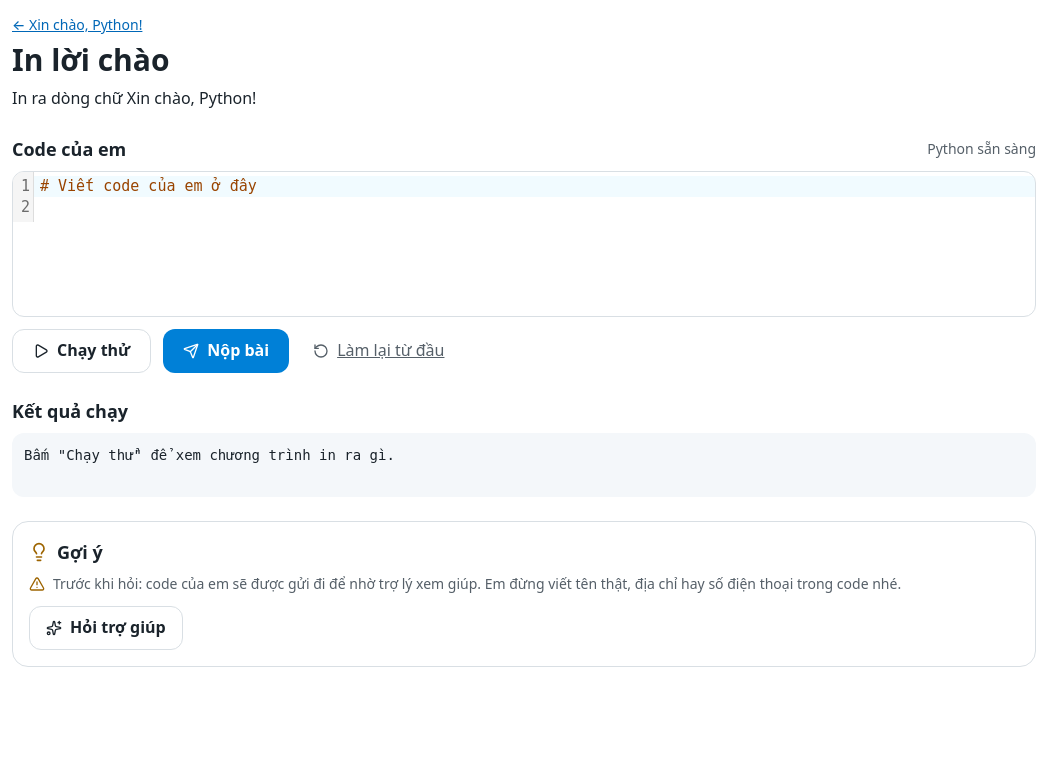
Test case: ExercisePage › gợi ý mở dần từng mức, không hiện hết một lúc
The image size is (1048, 780).
Click the button with test id "hint-ask" at x=106, y=628, box [29,606,183,650]
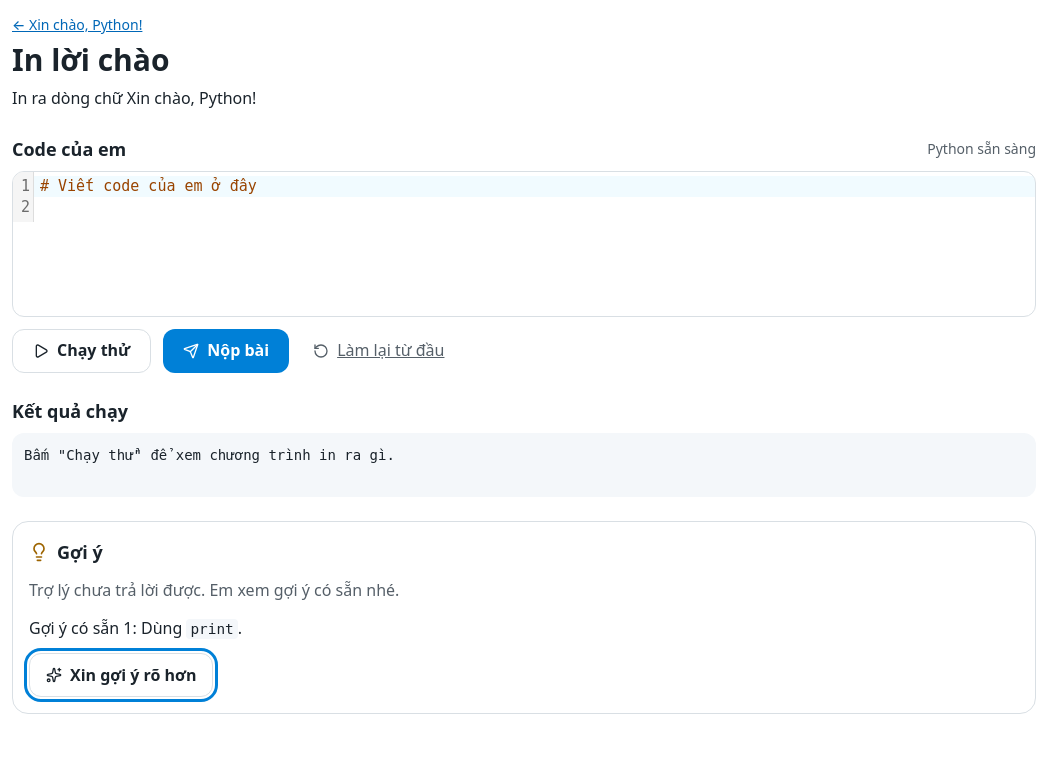
Check: the list with test id "hint-list" does not show "Chữ trong ngoặc kép.", box [29,617,242,639]
Check: the list with test id "hint-list" shows "Dùng print.", box [29,617,242,639]
Click the button with test id "hint-ask" at x=121, y=675, box [29,653,213,697]
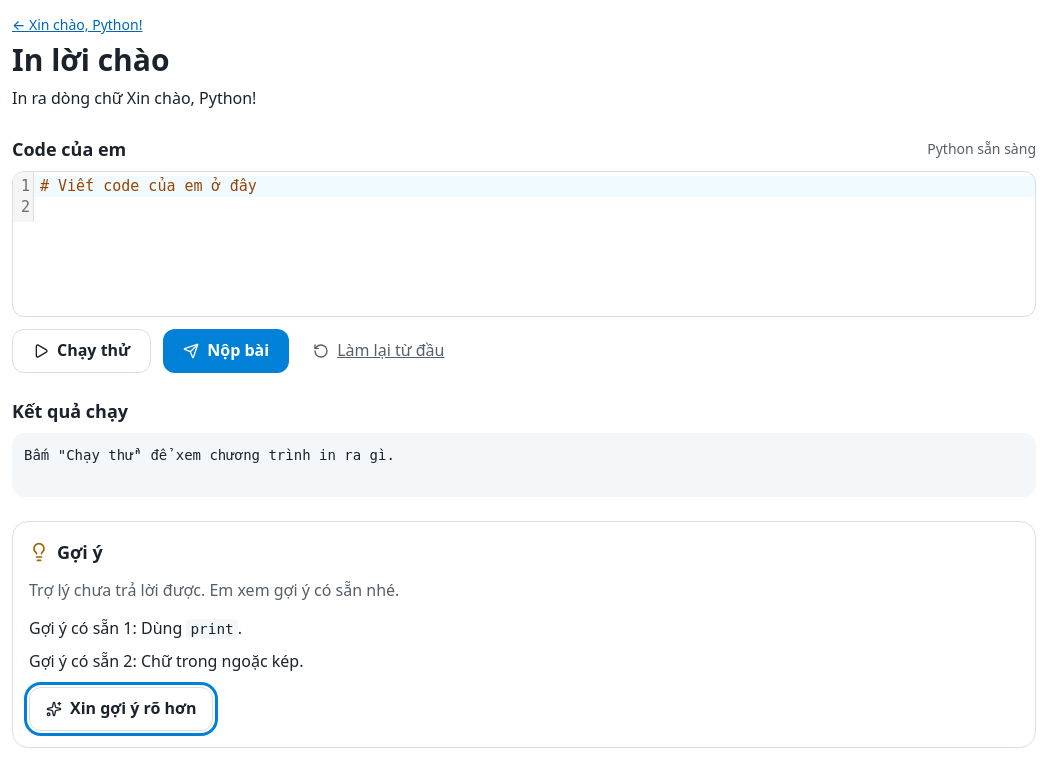
Check: the list with test id "hint-list" shows "Chữ trong ngoặc kép.", box [141,650,304,672]
